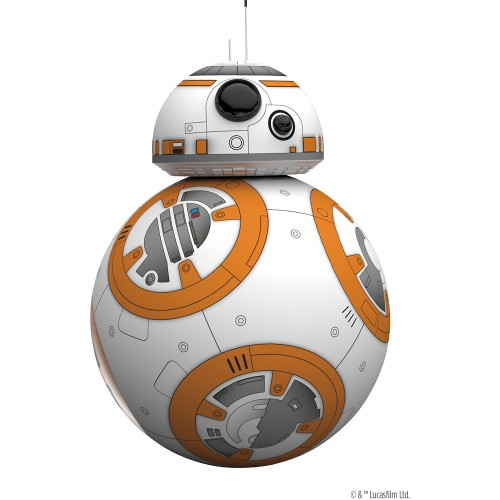bb8: (90, 59, 391, 469)
